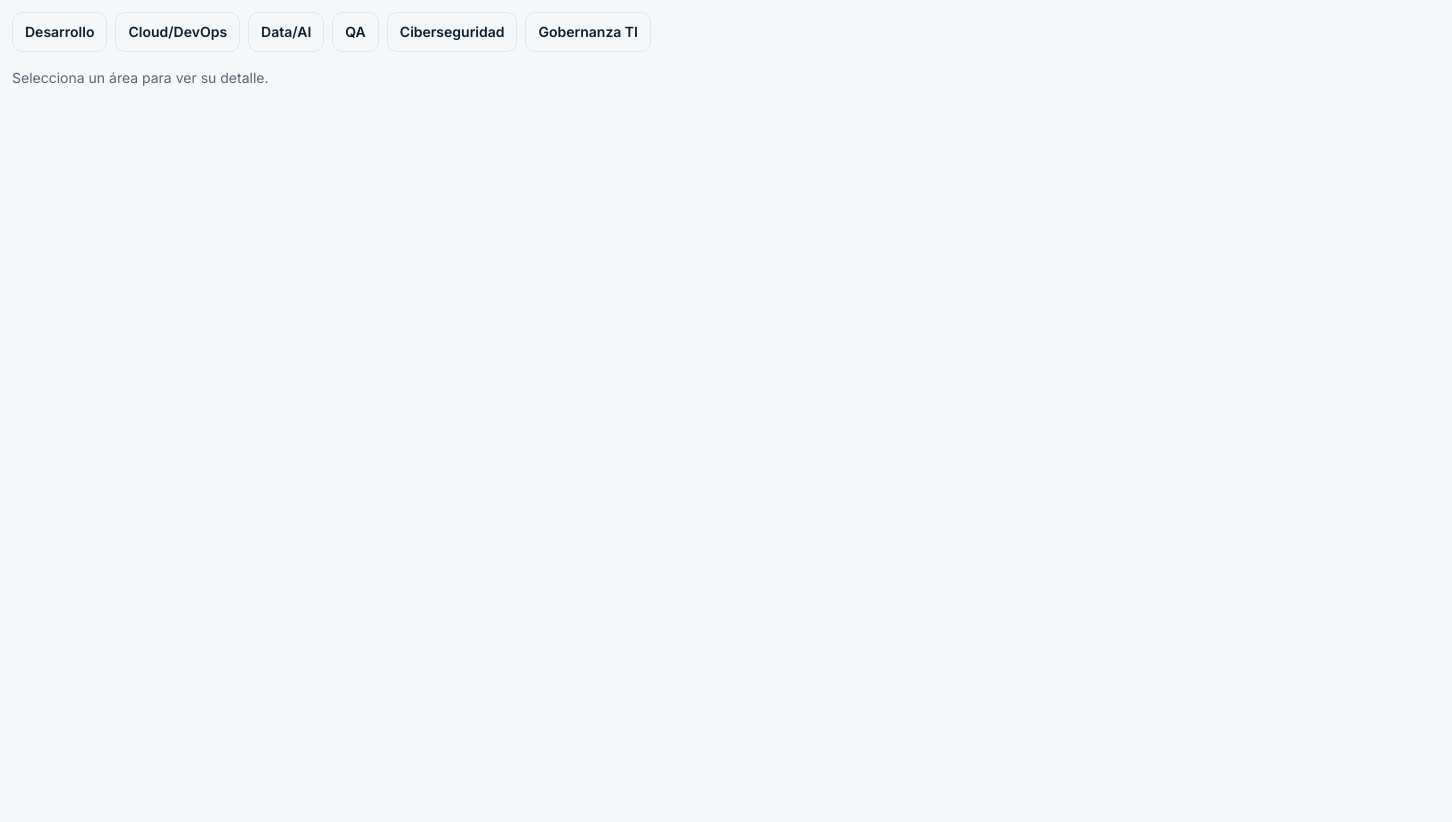
it: AreaDetailInteraction - validación funcional › actualiza la información al cambiar de área
This screenshot has width=1452, height=822.
Click the button "Desarrollo": (60, 32) [12,12,108,52]
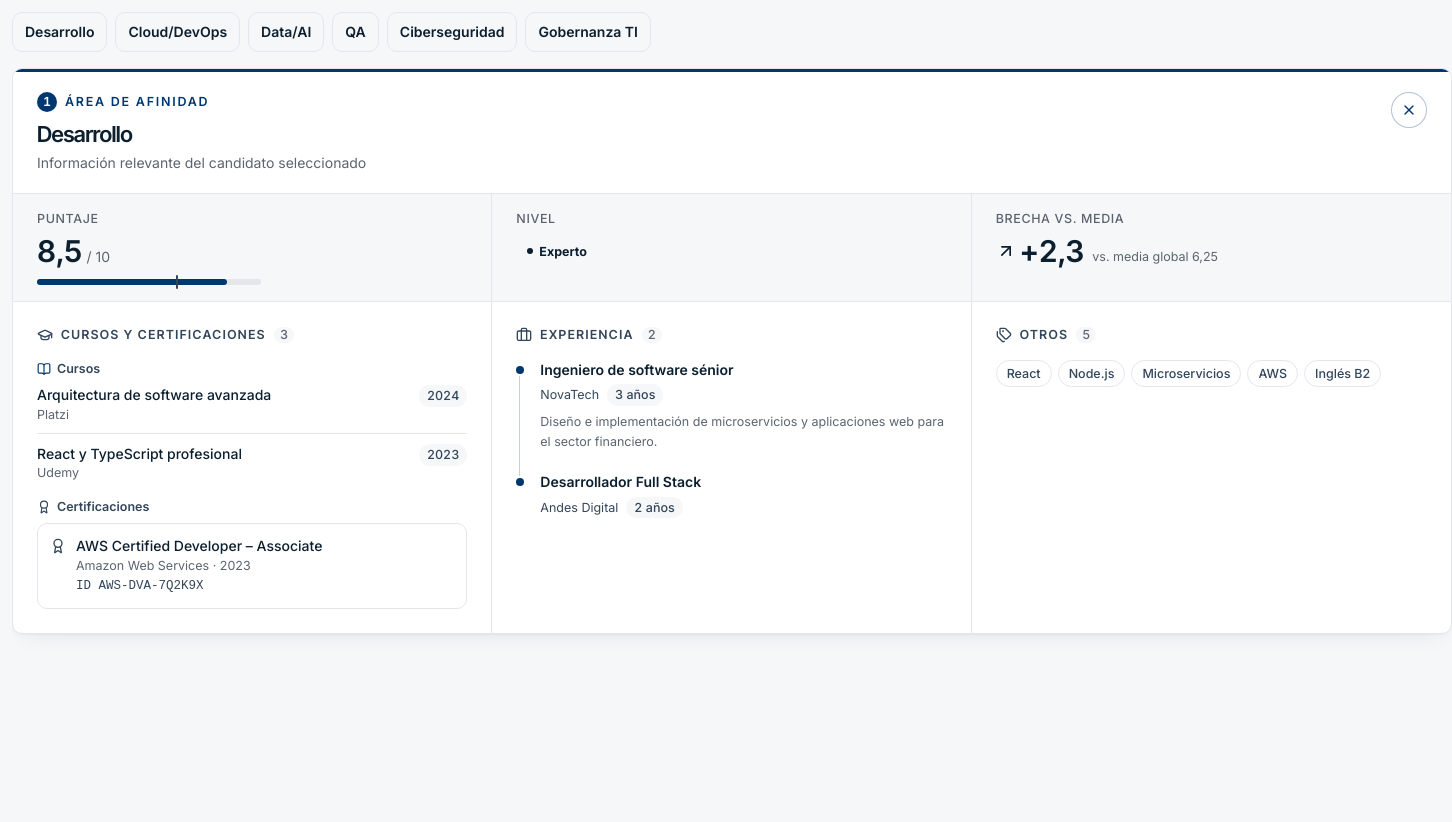
Now the element "Desarrollo" is shown
Click the button "Ciberseguridad": (452, 32) [387,12,518,52]
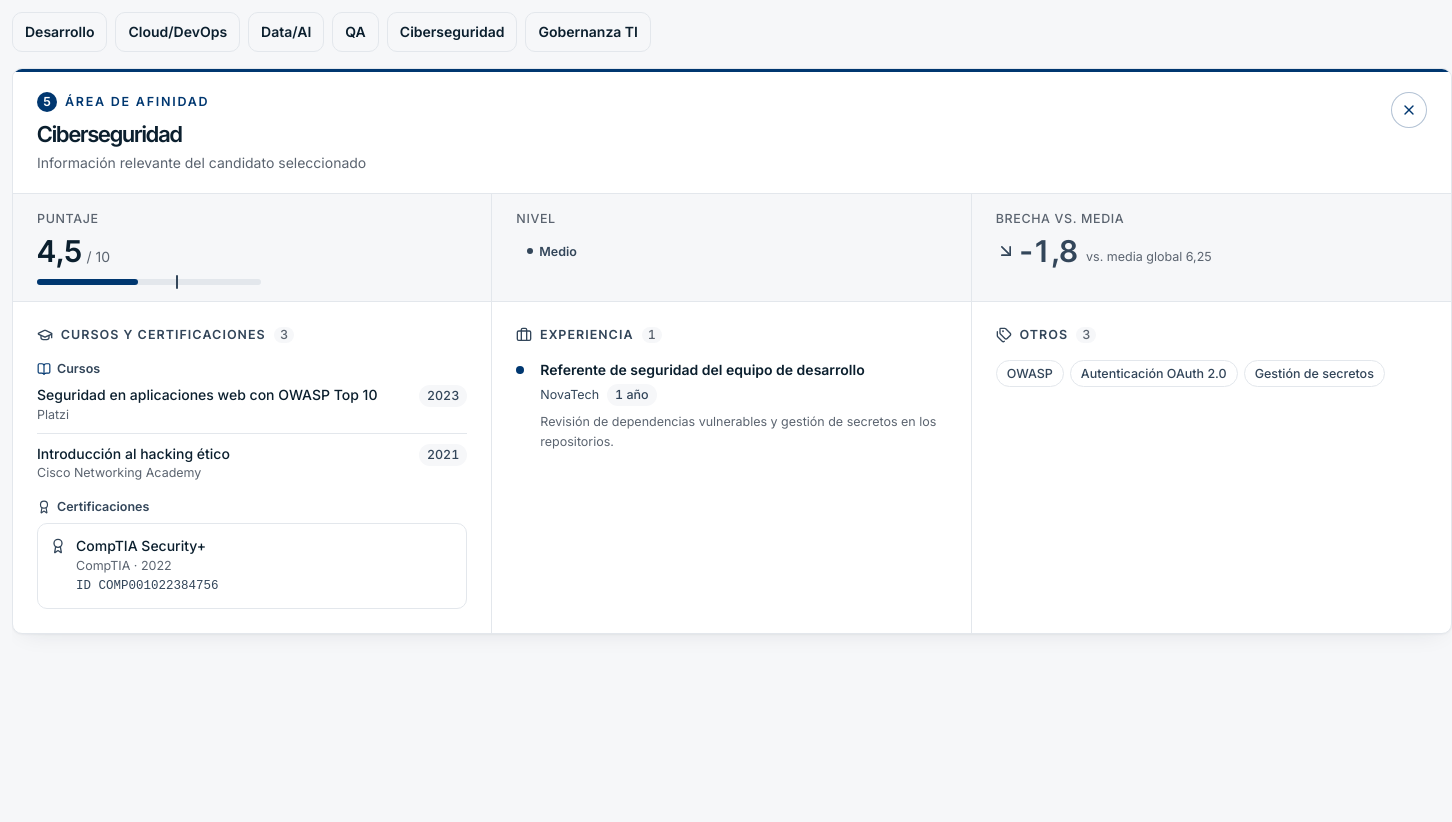
Now the text "/ 10" is shown, box [86,248,110,265]
Now the element "Ciberseguridad" is shown
Now the text "4,5" is shown, box [37,233,82,269]
